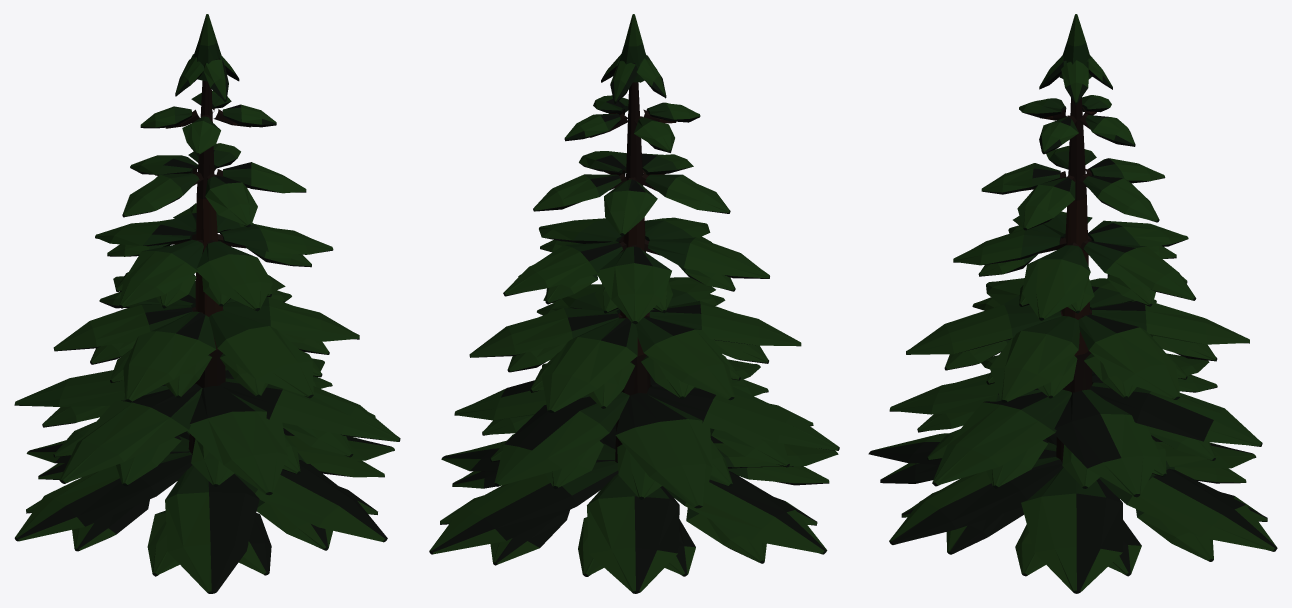
The model's file is flora_nordic_pine_canopy.glb.
The picture shows the model from 3 angles, left to right: view 1: azimuth 30°, elevation 25°; view 2: azimuth 150°, elevation 25°; view 3: azimuth 270°, elevation 25°; orthographic projection.
Parts seen in each view (by area): view 1: Flora_Nordic_Pine_Canopy; view 2: Flora_Nordic_Pine_Canopy; view 3: Flora_Nordic_Pine_Canopy.
Boxes of the visible parts, box(x1,y1,x2,y2) form: Flora_Nordic_Pine_Canopy: box(14, 14, 400, 593); Flora_Nordic_Pine_Canopy: box(429, 14, 839, 593); Flora_Nordic_Pine_Canopy: box(868, 14, 1277, 593).
Bounding box in the file's own units: 5 × 6.13 × 4.66.
